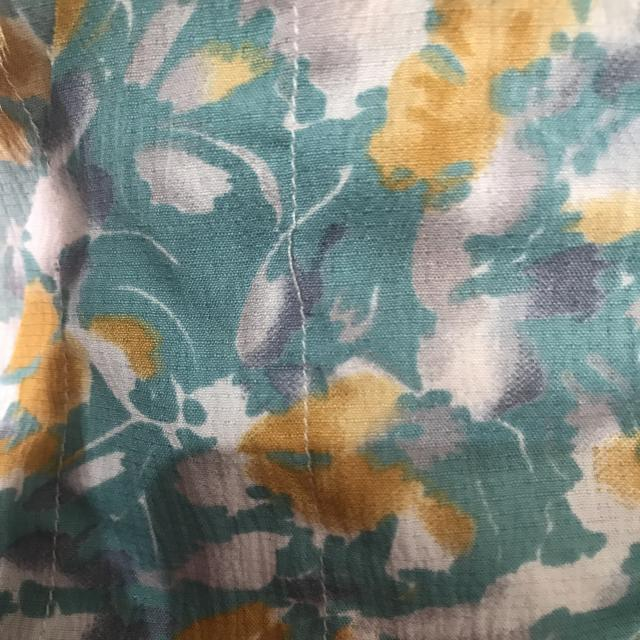skip: (274, 215, 332, 305)
